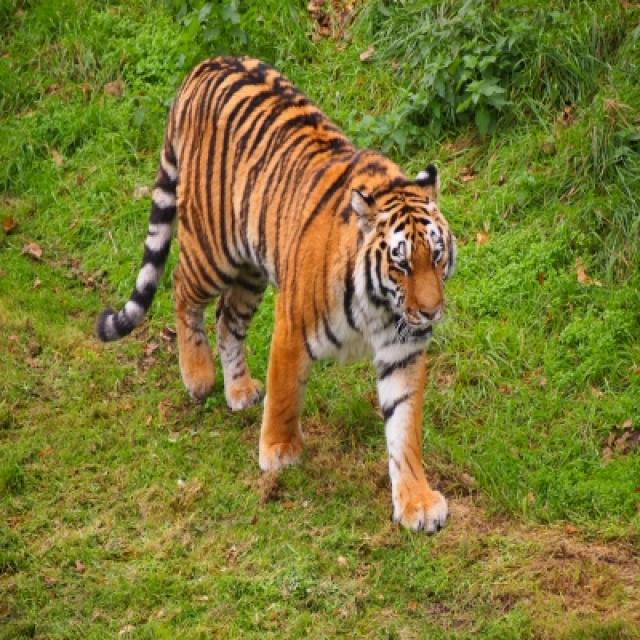Tiger: (85, 45, 469, 539)
